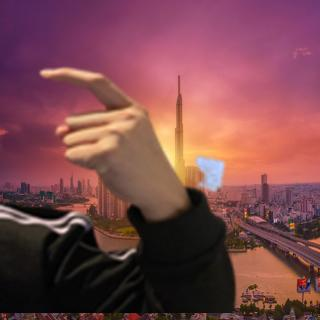WHY: (28, 57, 186, 210)
